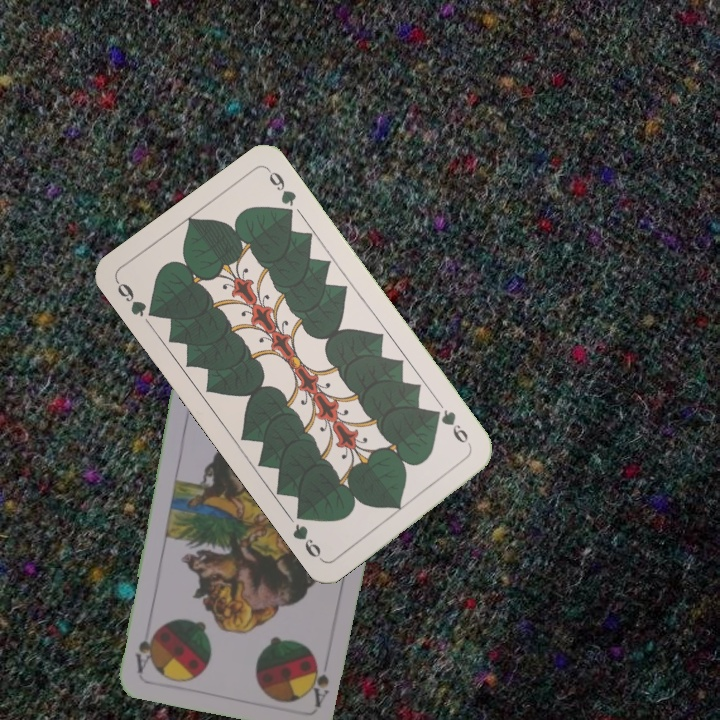G9: (429, 405, 475, 452), (112, 277, 161, 321)
SA: (306, 655, 332, 709)
